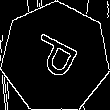P_SE: (25, 30, 86, 85)
